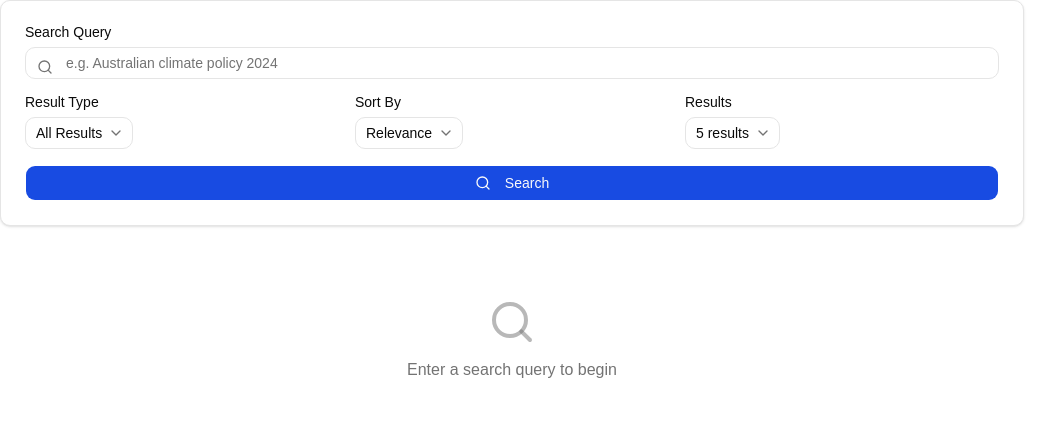
ResearcherSearchPage › shows 'no results' message when search returns empty
The width and height of the screenshot is (1041, 429).
Type "nothing" into the field with placeholder "e.g. Australian climate policy 2024" at [512, 63], box [25, 47, 999, 79]
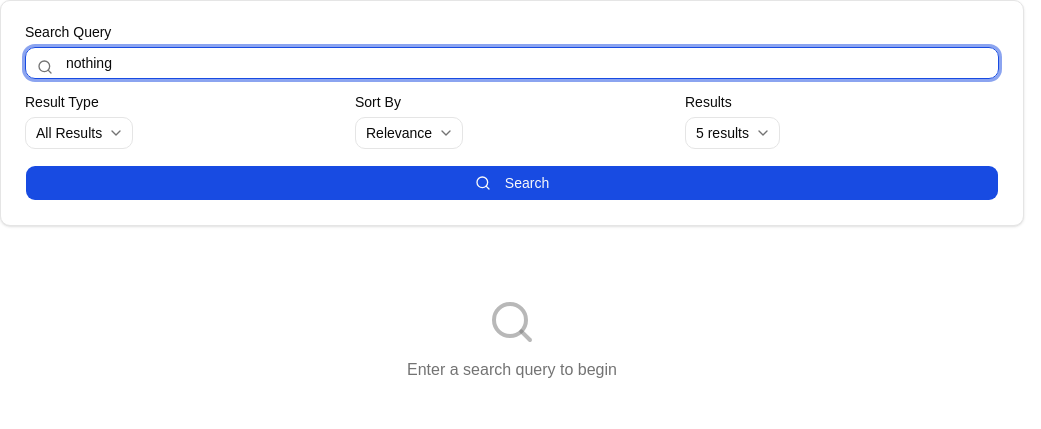
Click the button "Search" at [512, 183], box [25, 165, 999, 201]
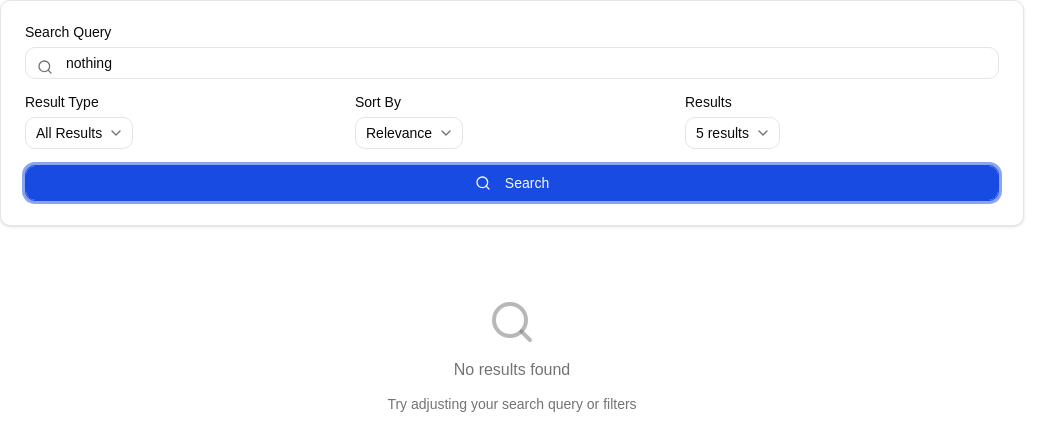
Expected: the text "No results found" is shown, [454, 358, 570, 382]
